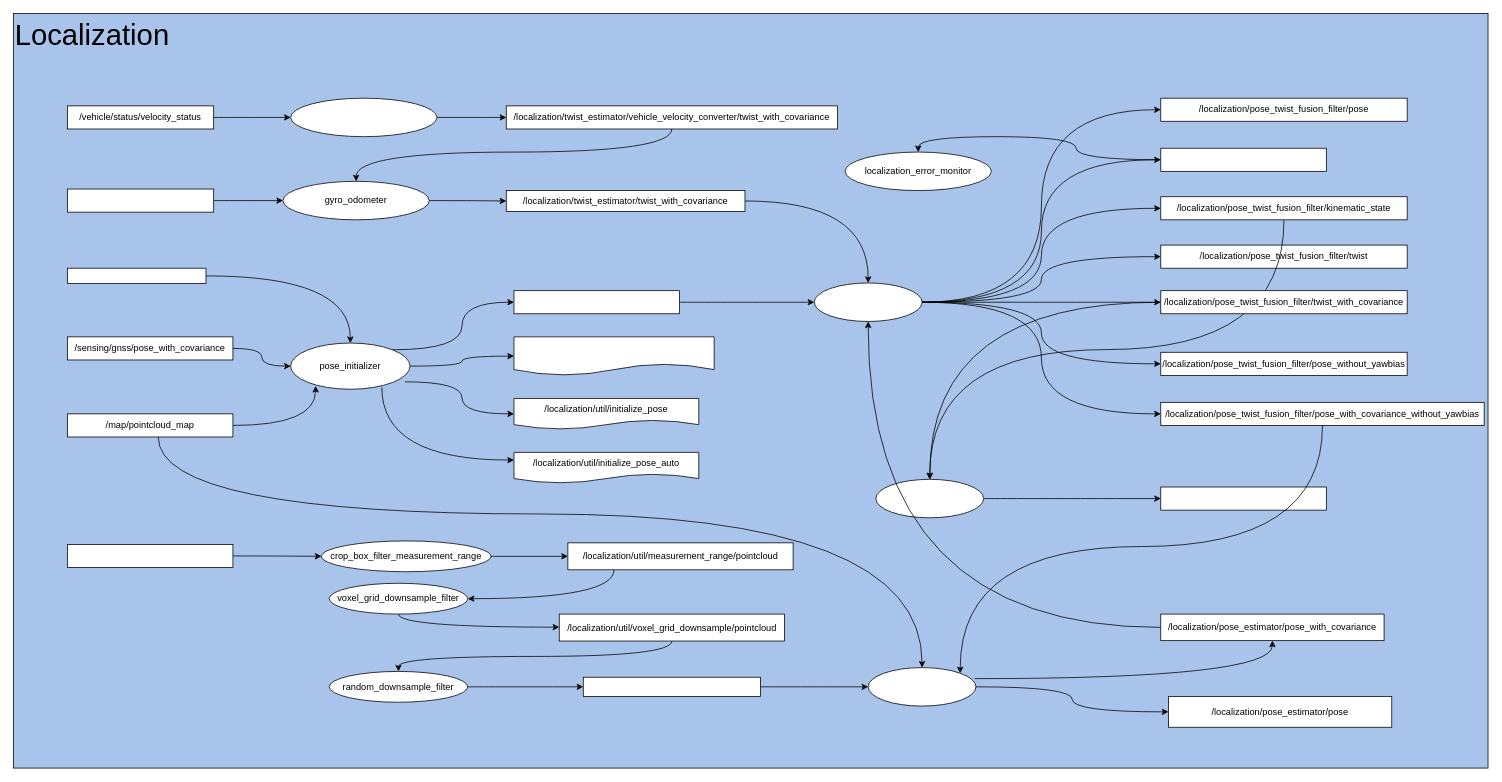
Some shapes in this 1502 by 782 pixel diagram are drawn without their labels. Each missing label, with the centre of its shape:
/initialpose: point (136, 275)
/initialpose3d: point (596, 302)
/localization/kinematic_state: point (1243, 498)
/localization/pose_estimator/ndt_align_srv: point (613, 355)
/localization/pose_with_covariance: point (1243, 159)
/localization/util/downsample/pointcloud: point (671, 686)
/sensing/imu/imu_data: point (140, 200)
/sensing/lidar/top/rectified/pointcloud: point (150, 555)
ekf_localizer: point (868, 301)
ndt_scan_matcher: point (921, 686)
stop_filter: point (929, 498)
vehicle_velocity_converter: point (363, 117)
